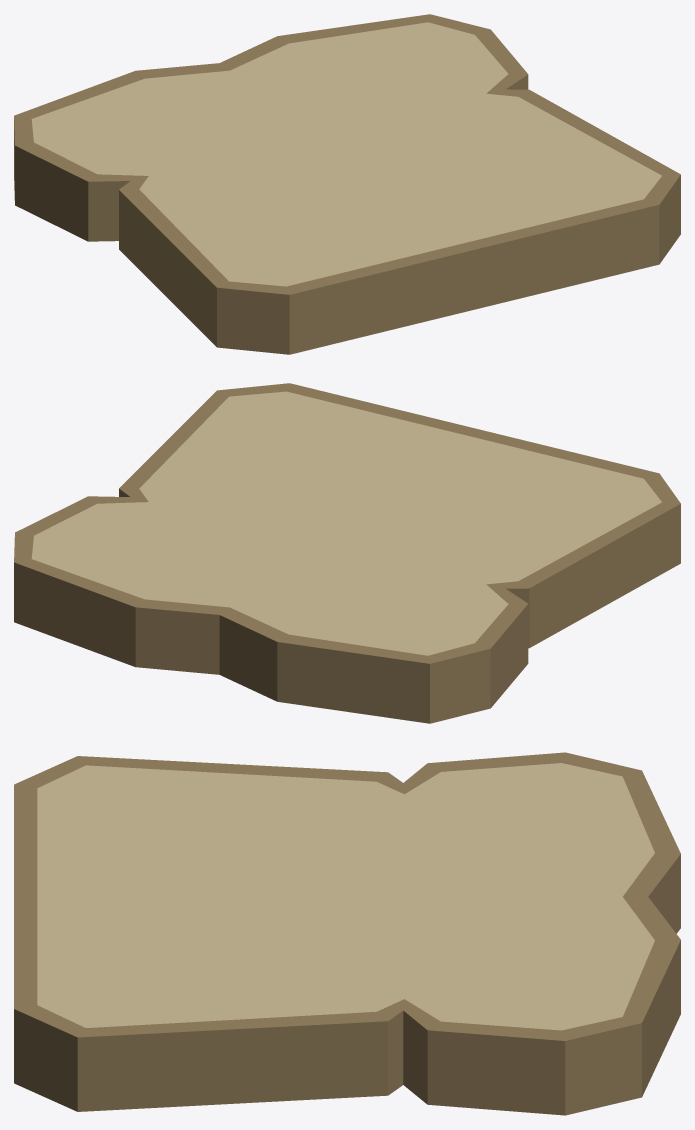
File: SM_Item_Bread_01.fbx
3 views of the same model, one above another, from view 1: azimuth 30°, elevation 25°; view 2: azimuth 150°, elevation 25°; view 3: azimuth 270°, elevation 25° (orthographic). The views are drawn at different scales.
Visible parts, largest first — view 1: SM_Item_Bread_01; view 2: SM_Item_Bread_01; view 3: SM_Item_Bread_01.
Boxes of the visible parts, box(x1,y1,x2,y2) form: SM_Item_Bread_01: box(14, 14, 680, 354); SM_Item_Bread_01: box(14, 383, 680, 723); SM_Item_Bread_01: box(14, 752, 680, 1115).
Size of the model in its own units: 18.21 by 2.19 by 17.78.
